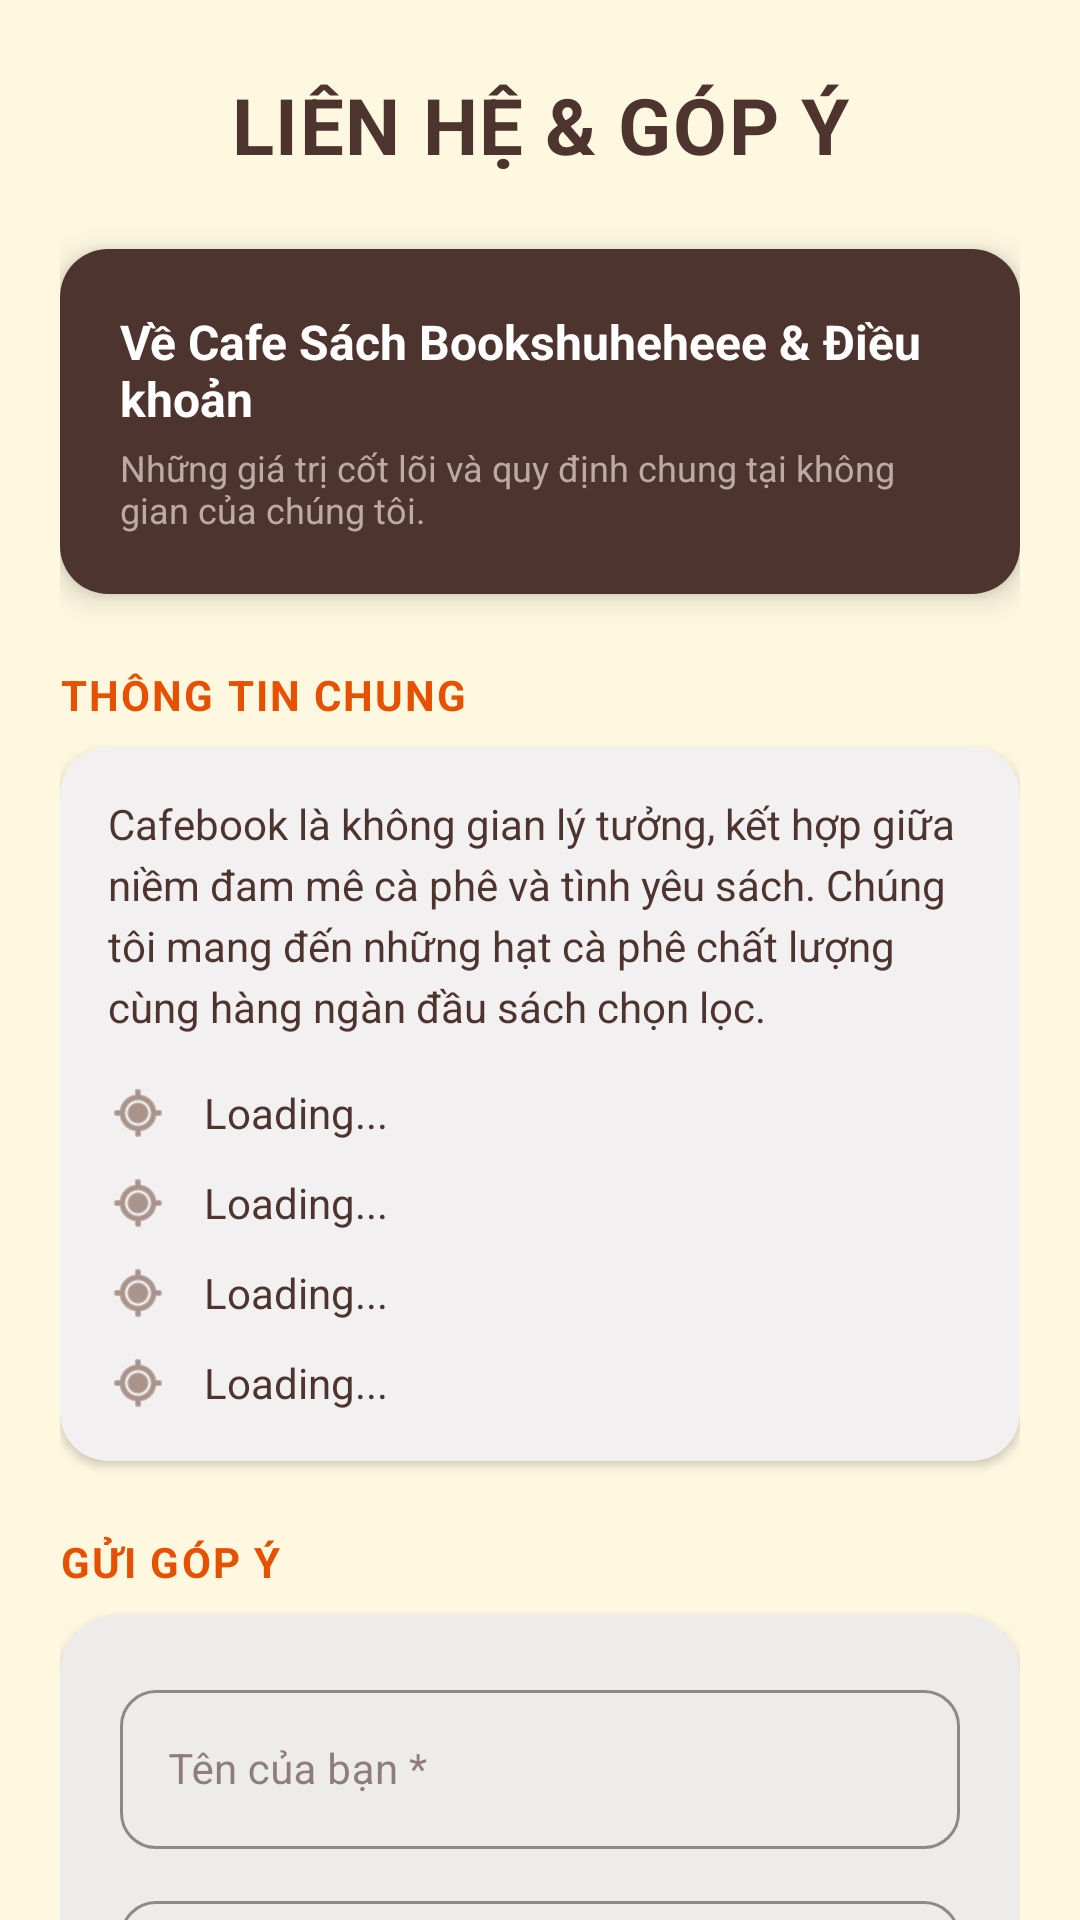

Point at icon controls on the screen. Image size 1080*1920, points as point (x, y).
mylocation: point (138, 1113), point (138, 1203), point (138, 1293), point (138, 1383)
